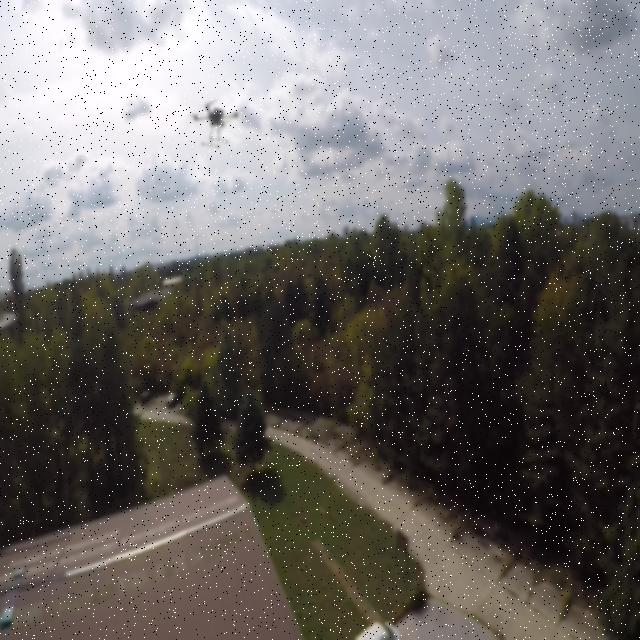UAV: (184, 93, 246, 153)
